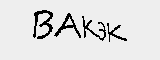А: (51, 10, 81, 39)
В: (32, 7, 53, 41)
К: (80, 15, 102, 41), (106, 22, 127, 42)
Э: (95, 19, 107, 41)
